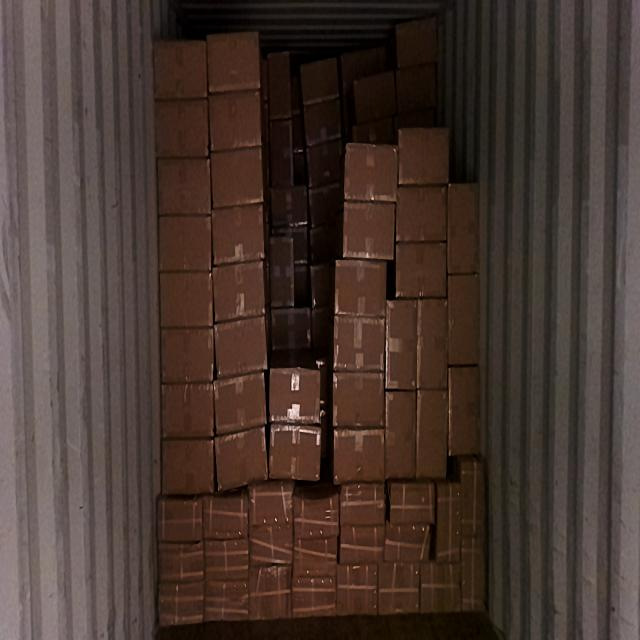carton: (153, 37, 206, 100), (155, 97, 208, 157), (207, 31, 259, 92), (210, 91, 261, 152), (215, 315, 266, 376), (343, 198, 394, 259), (158, 216, 212, 273), (160, 326, 213, 384), (162, 437, 214, 496), (216, 427, 266, 488), (417, 390, 450, 482), (449, 362, 480, 458), (158, 274, 213, 328), (268, 428, 322, 483), (343, 143, 397, 198), (212, 209, 265, 265), (158, 158, 210, 215), (395, 241, 447, 298), (447, 182, 479, 274), (416, 300, 448, 392), (333, 371, 384, 428), (215, 374, 265, 432), (396, 127, 446, 185), (386, 300, 417, 391), (448, 272, 479, 362), (212, 153, 264, 206), (160, 382, 213, 434), (212, 267, 266, 318), (335, 261, 386, 314), (396, 187, 446, 240), (334, 318, 384, 371), (386, 391, 416, 479), (270, 368, 320, 420), (333, 430, 383, 482), (291, 570, 338, 618), (157, 494, 202, 544), (338, 561, 378, 616), (378, 562, 420, 614), (249, 566, 291, 618), (420, 562, 460, 616), (340, 482, 386, 528), (295, 493, 340, 540), (156, 580, 203, 624), (203, 580, 250, 624), (205, 494, 247, 541), (462, 461, 486, 541), (436, 483, 460, 562), (390, 484, 435, 526), (340, 526, 386, 566), (203, 540, 249, 578), (462, 542, 486, 613), (157, 544, 204, 580), (249, 526, 293, 564), (386, 524, 430, 562), (251, 487, 291, 526), (293, 542, 339, 572)
